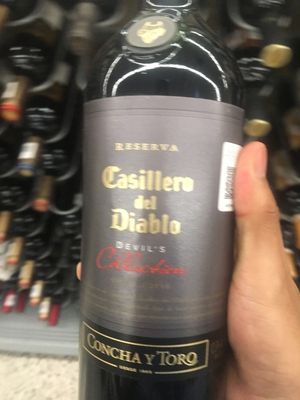casillero del diablo devils collection rojo: (64, 22, 245, 400)
